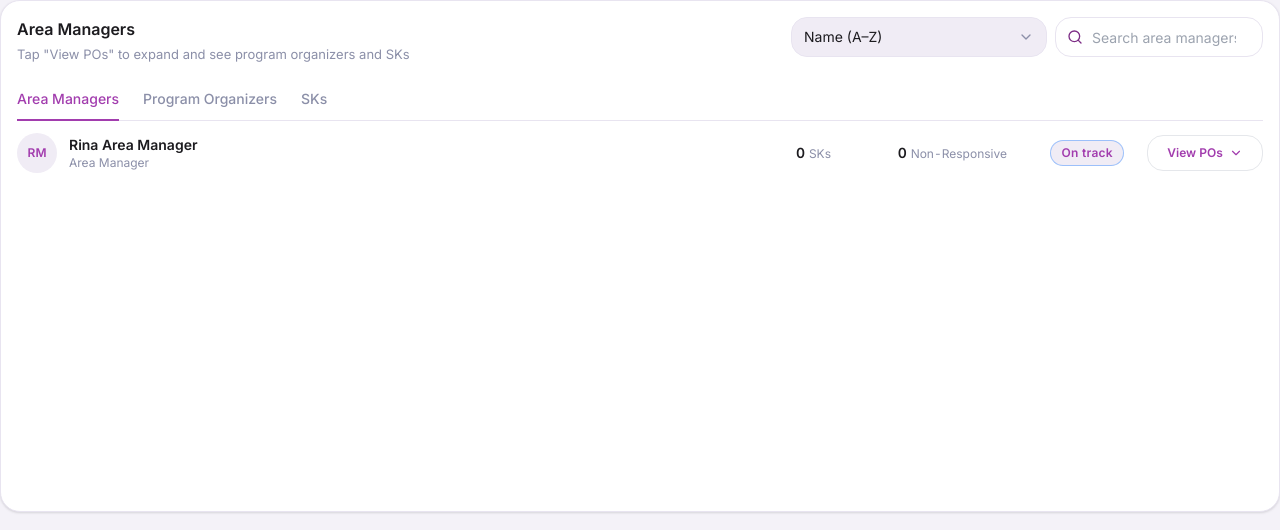
Test: TeamHierarchySection › shows at-risk badge from performance_status even when the member is active
The width and height of the screenshot is (1280, 530).
Click the tab "SKs": click(314, 104) [301,88,327,120]
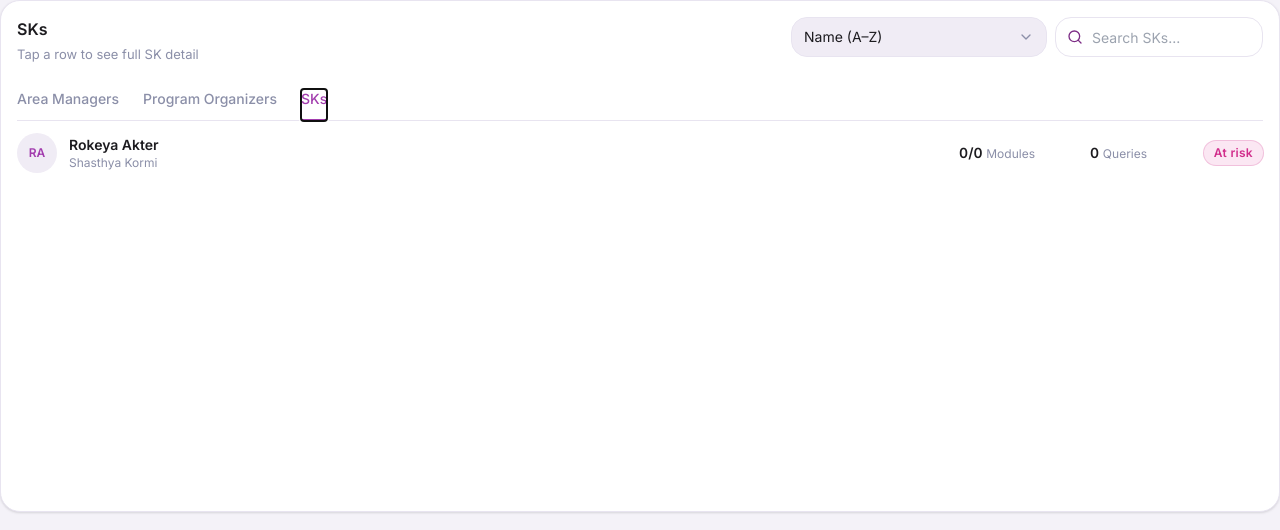
expect the text "At risk" is shown: met, box [1204,140,1263,164]
